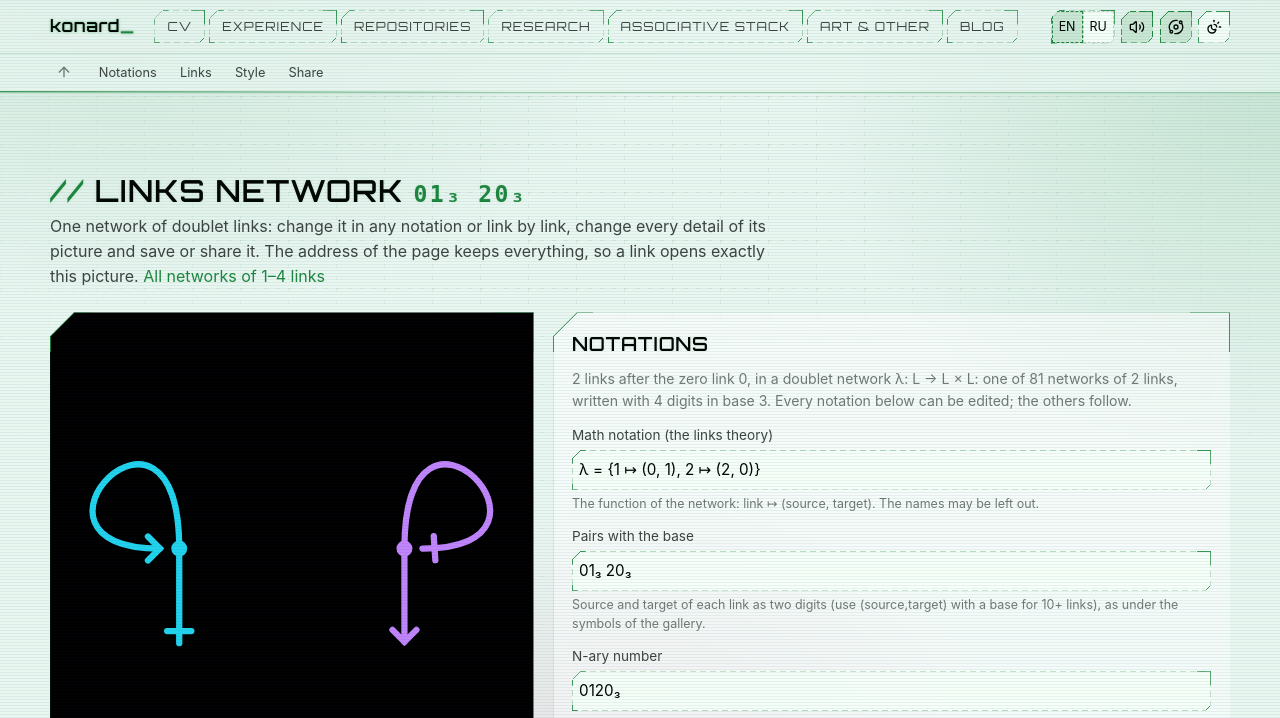
Test: NetworkPage (issue #17) › keeps an invalid text, says what is wrong and leaves the network as it was
Replace the text in the field labelled "N-ary number" with "0130" at x=891, y=691, box [572,671,1211,711]
(page scrolled)
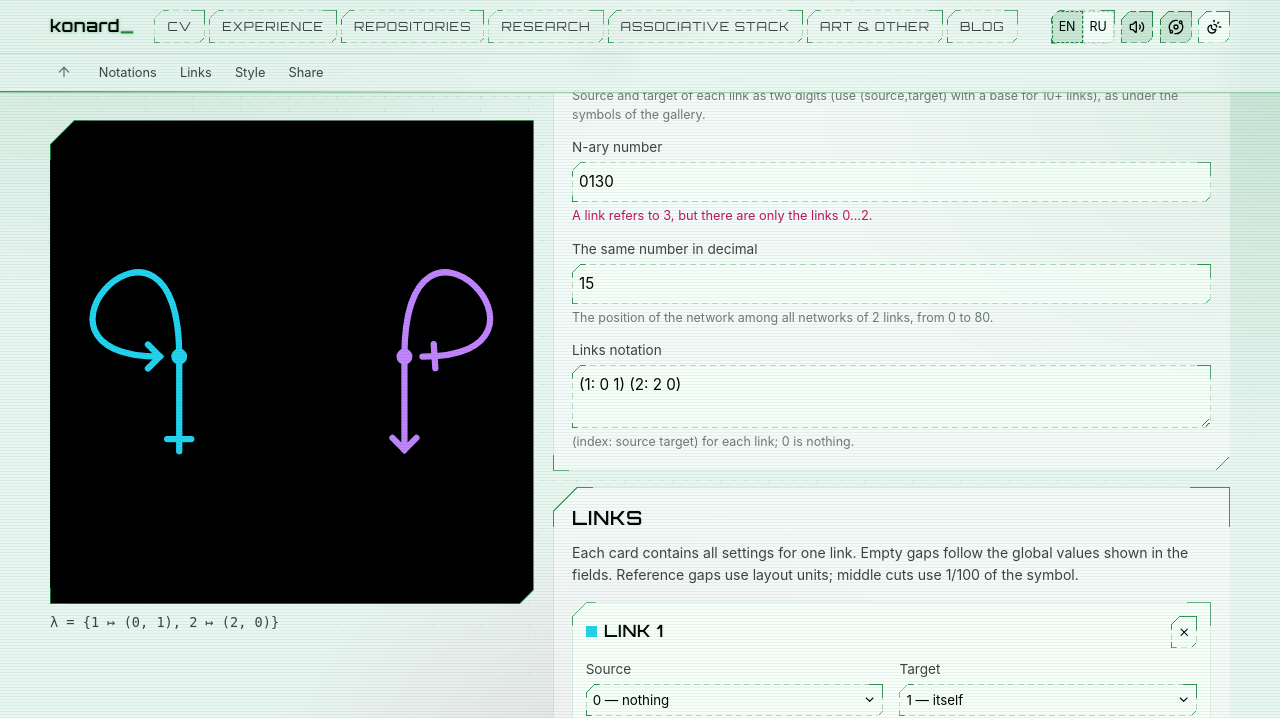
Expected: the text box labelled "Links notation" holds "(1: 0 1) (2: 2 0)", [572,365,1211,428]
Expected: the message reads "A link refers to 3, but there are only the links 0…2.", [572,208,872,223]
